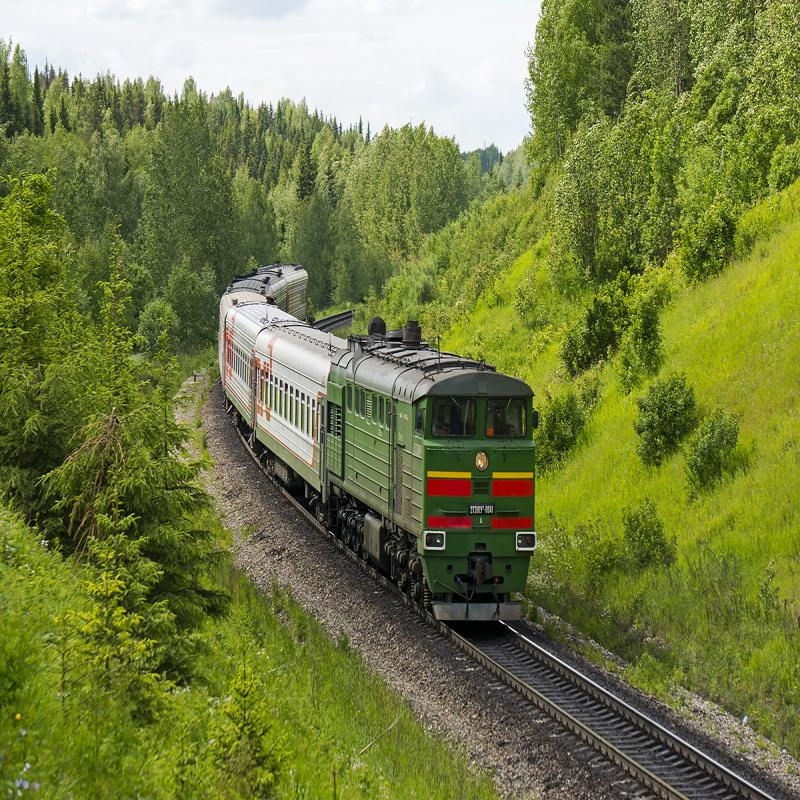train: (324, 308, 544, 653), (255, 289, 350, 521)
